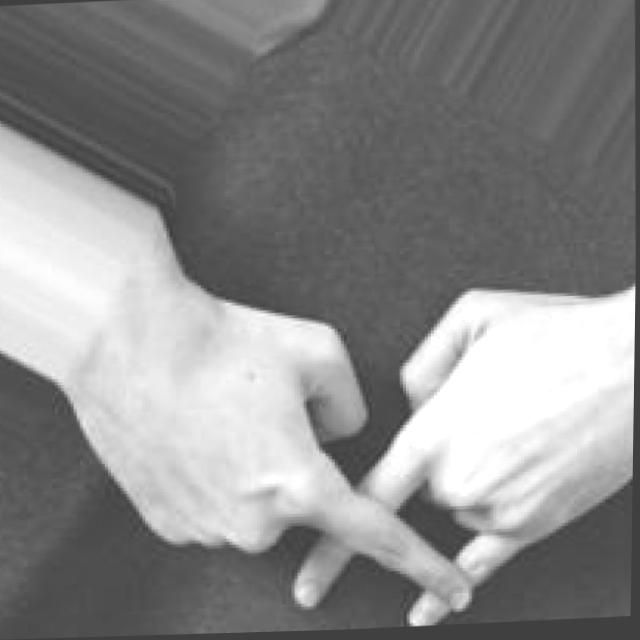H: (0, 254, 636, 640)
